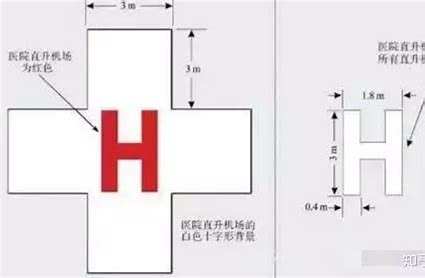H: (343, 109, 402, 197), (100, 108, 158, 192)
